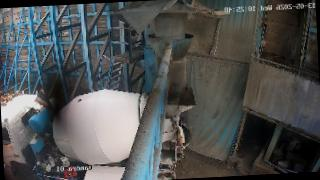cement_mixer_truck: (1, 88, 196, 180)
swing_chute: (149, 34, 193, 100)
